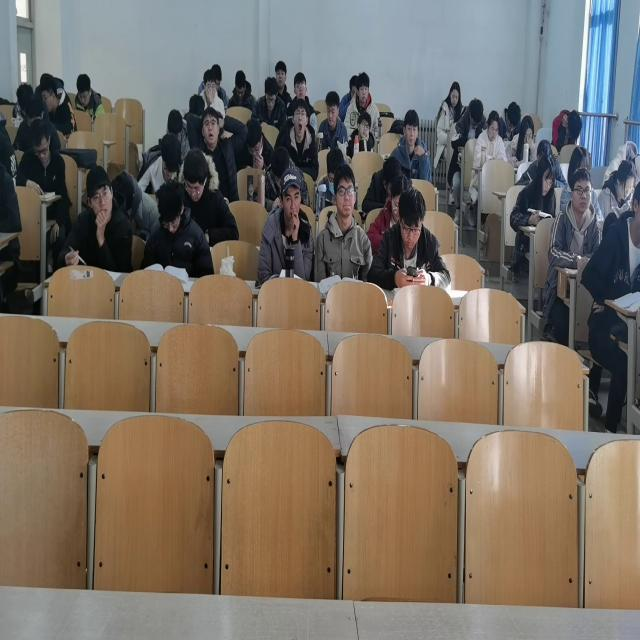bow: (263, 147, 310, 213), (137, 132, 184, 197), (361, 153, 403, 214), (451, 98, 486, 150), (241, 118, 275, 169), (498, 100, 523, 145)
down: (398, 187, 427, 250), (156, 180, 185, 237), (182, 146, 208, 204), (29, 117, 51, 165), (160, 133, 181, 181), (270, 147, 291, 191), (536, 154, 556, 198), (616, 159, 636, 201), (245, 120, 264, 160), (324, 89, 340, 127), (76, 73, 92, 108), (468, 98, 484, 132), (505, 100, 521, 134), (264, 76, 279, 112), (565, 109, 581, 141), (487, 109, 501, 142), (520, 114, 534, 147), (203, 68, 217, 100), (234, 68, 247, 100), (448, 80, 461, 107)
lookup: (85, 164, 114, 226), (278, 167, 303, 224), (332, 161, 357, 218), (570, 167, 594, 214), (201, 105, 221, 146), (291, 97, 309, 137), (402, 108, 420, 147), (355, 70, 370, 105), (357, 110, 372, 139), (293, 71, 307, 100), (274, 60, 288, 88)
sit: (366, 184, 451, 290), (57, 164, 134, 273), (142, 178, 214, 277), (313, 163, 372, 283), (257, 166, 314, 282), (186, 105, 248, 204), (178, 145, 239, 245), (548, 166, 602, 270), (16, 117, 68, 194), (508, 154, 556, 232), (279, 97, 320, 181), (392, 108, 432, 181), (597, 158, 638, 220), (40, 74, 78, 139), (344, 70, 380, 137), (472, 110, 507, 170), (252, 75, 288, 129), (317, 89, 349, 149), (436, 81, 464, 145), (506, 112, 538, 166), (293, 70, 317, 134), (73, 73, 105, 120), (551, 108, 583, 153), (346, 110, 375, 158), (199, 67, 224, 120), (228, 69, 256, 111), (274, 59, 293, 110)
